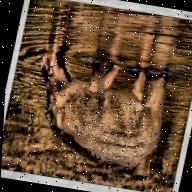boar: (18, 51, 175, 177)
